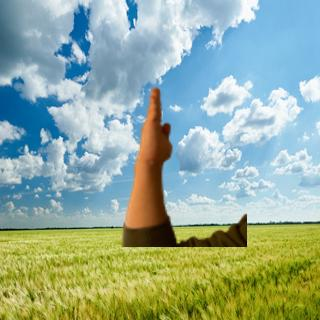RIGHT: (134, 83, 179, 172)
